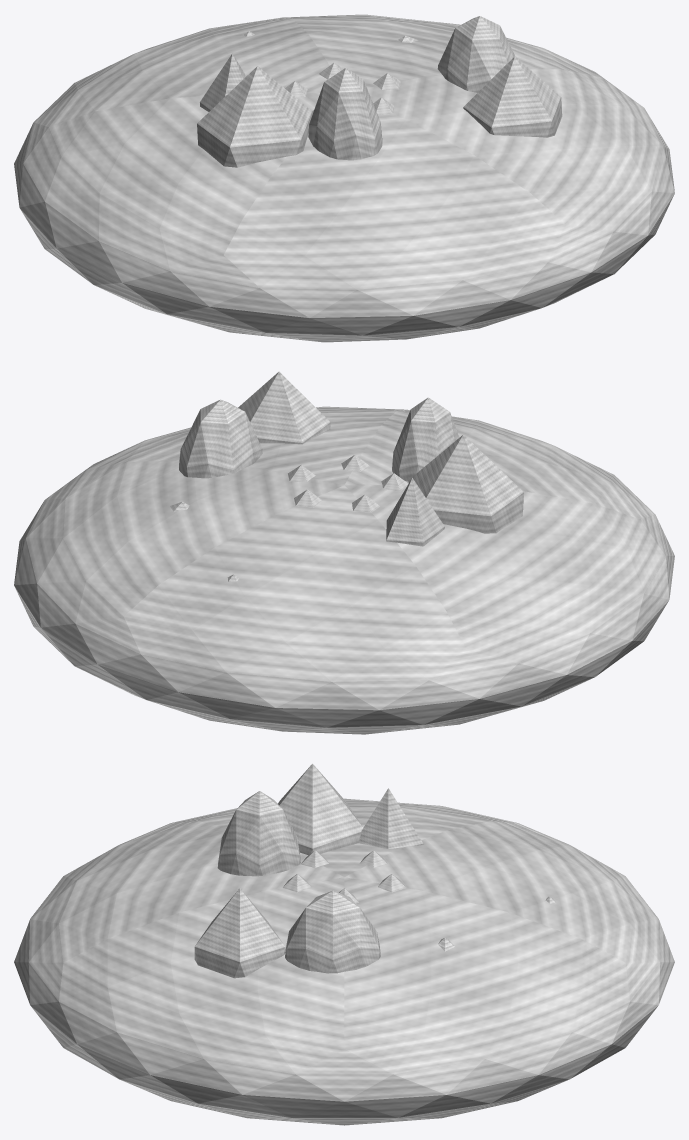
File: caterium_ore_node_variant_a.glb
The picture shows the model from 3 angles, top to bottom: view 1: azimuth 30°, elevation 25°; view 2: azimuth 150°, elevation 25°; view 3: azimuth 270°, elevation 25°; orthographic projection.
Parts seen in each view (by area): view 1: Resource node bedrock, Exposed ore formation.006, Exposed ore formation.009, Exposed ore formation.007, Exposed ore formation.001, Exposed ore formation.005; view 2: Resource node bedrock, Exposed ore formation.006, Exposed ore formation.001, Exposed ore formation.009, Exposed ore formation.007, Exposed ore formation.005; view 3: Resource node bedrock, Exposed ore formation.001, Exposed ore formation.007, Exposed ore formation.009, Exposed ore formation.006, Exposed ore formation.005.
Boxes of the visible parts, box(x1,y1,x2,y2) form: Resource node bedrock: box(14, 14, 674, 342); Exposed ore formation.006: box(197, 66, 312, 167); Exposed ore formation.009: box(463, 56, 562, 137); Exposed ore formation.007: box(308, 68, 382, 160); Exposed ore formation.001: box(437, 16, 515, 92); Exposed ore formation.005: box(200, 53, 246, 111); Resource node bedrock: box(14, 406, 674, 734); Exposed ore formation.006: box(408, 434, 523, 533); Exposed ore formation.001: box(179, 399, 262, 478); Exposed ore formation.009: box(238, 371, 330, 444); Exposed ore formation.007: box(392, 397, 459, 481); Exposed ore formation.005: box(386, 478, 444, 546); Resource node bedrock: box(14, 798, 674, 1125); Exposed ore formation.001: box(285, 890, 380, 973); Exposed ore formation.007: box(217, 791, 300, 876); Exposed ore formation.009: box(194, 888, 285, 978); Exposed ore formation.006: box(278, 763, 363, 855); Exposed ore formation.005: box(358, 788, 423, 849).
Size of what is drawn, in the model's own units: 6 by 2.37 by 6.
Materials: 2 (2 with a texture image).
